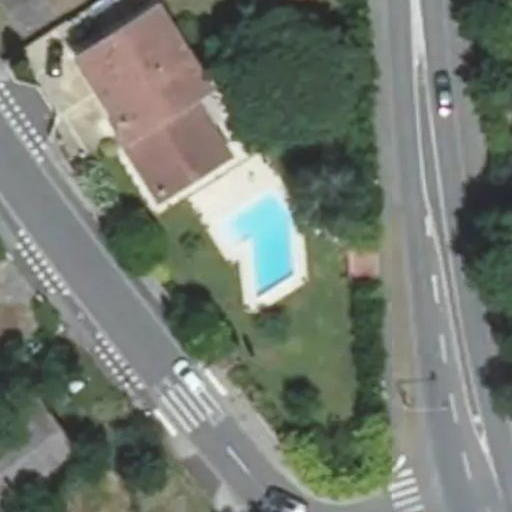pool: (204, 224, 322, 258)
